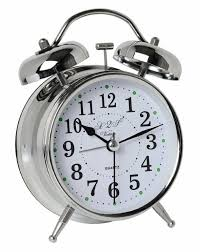alarm_clock: (16, 6, 183, 239)
